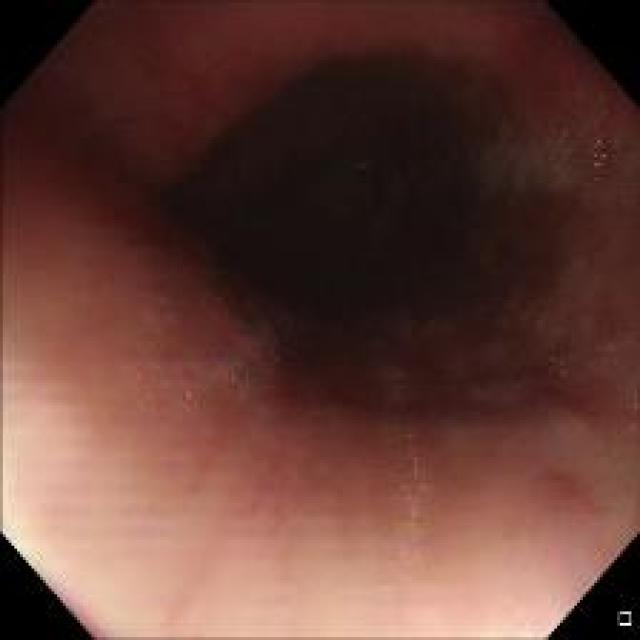bubbles: (466, 104, 629, 205), (141, 329, 264, 411), (386, 379, 429, 571), (539, 348, 579, 388), (592, 326, 628, 366), (625, 395, 638, 441)
contrast: (170, 49, 591, 424)
